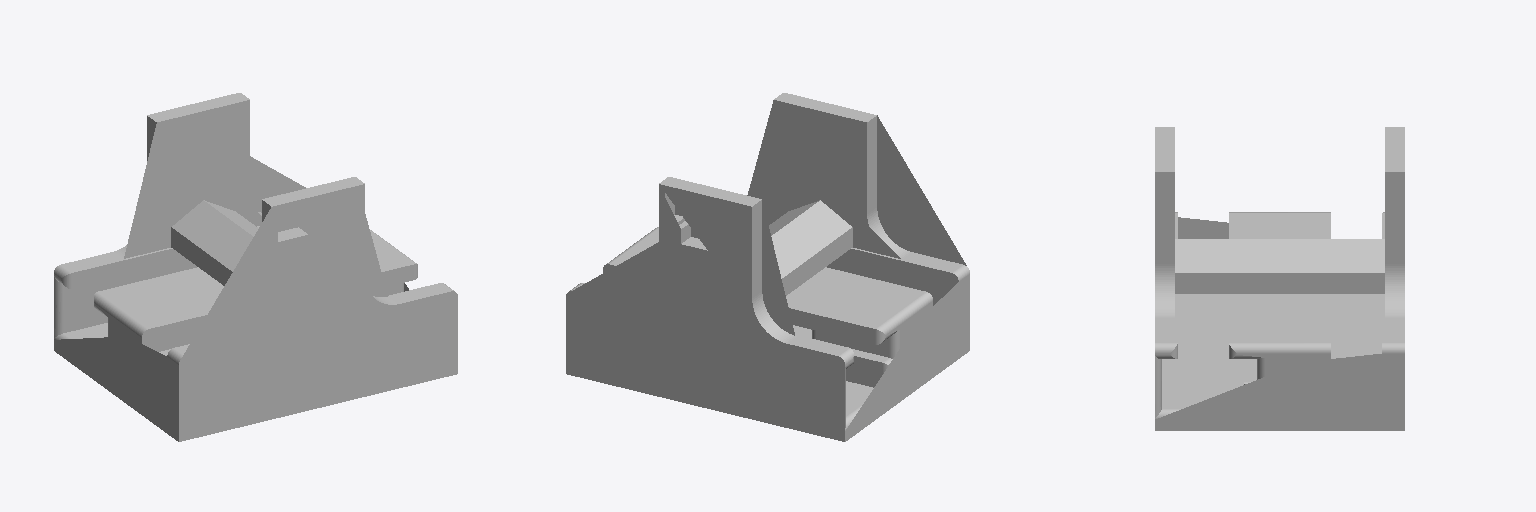
Rendered from Prints_base.obj.
The picture shows the model from 3 angles: view 1: azimuth 30°, elevation 25°; view 2: azimuth 150°, elevation 25°; view 3: azimuth 270°, elevation 25°; orthographic projection.
Parts seen in each view (by area): view 1: base; view 2: base; view 3: base.
Part boxes in pixels (bbox=[...]): base: bbox=[54, 93, 457, 441]; base: bbox=[566, 93, 969, 441]; base: bbox=[1155, 127, 1404, 430].
Size of the model in its own units: 0.064 by 0.0466 by 0.0496.